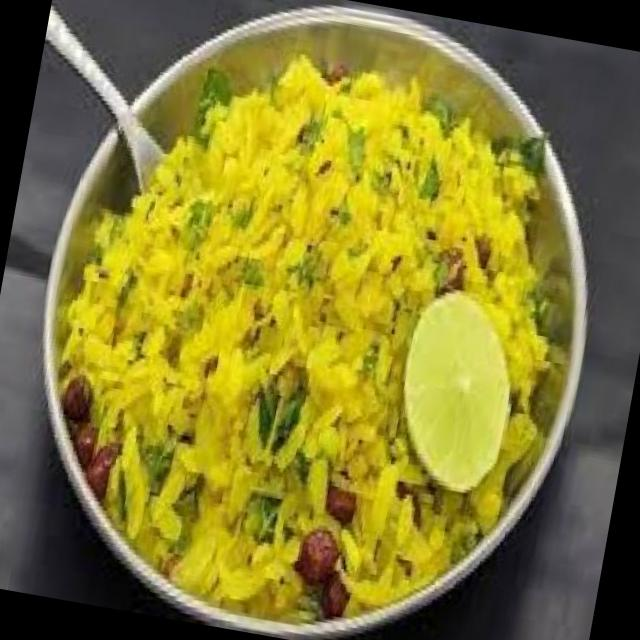poha: (20, 19, 594, 640)
